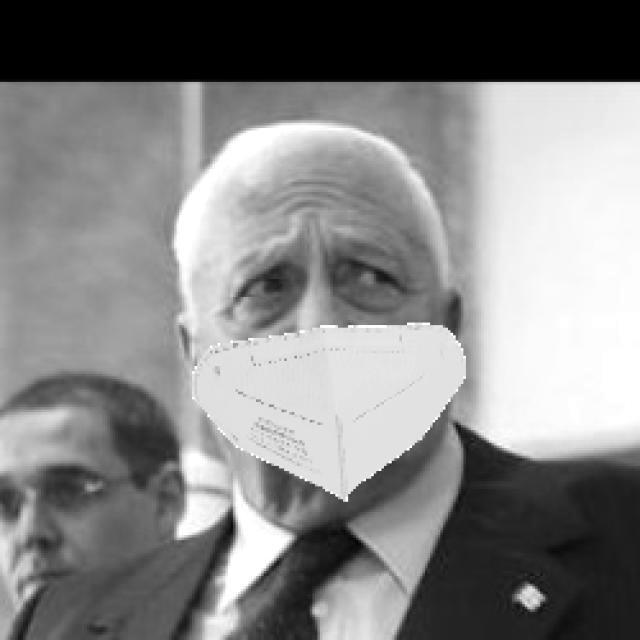mask: (219, 332, 472, 482)
no_gloves: (192, 110, 396, 216), (0, 356, 198, 462)
no_hairnet: (9, 514, 120, 592)
